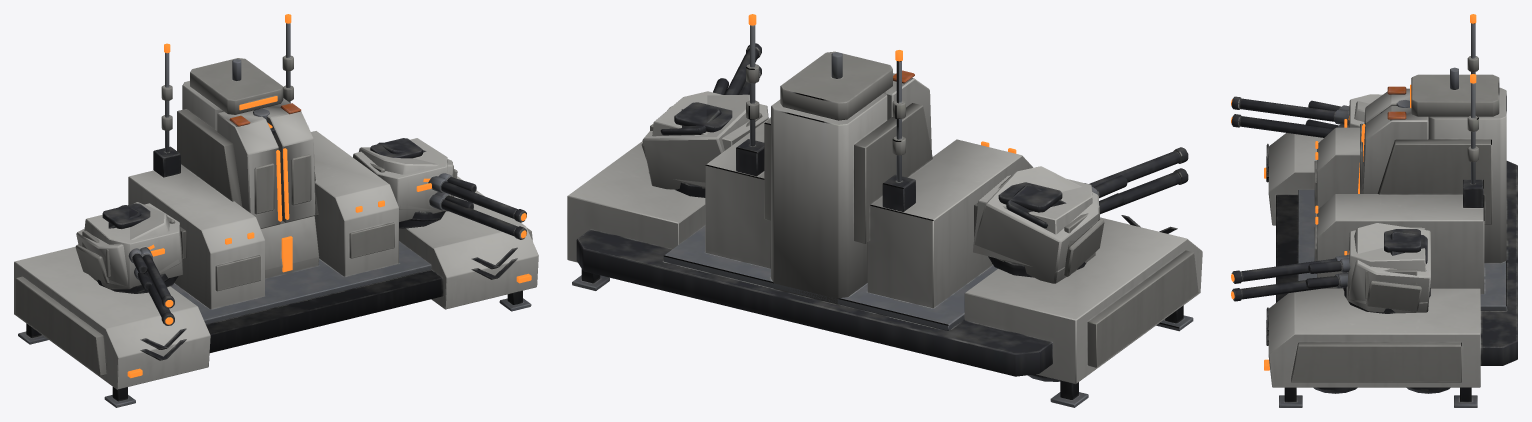
The model's file is warden-v5-remodel.glb.
3 renders of one model, left to right at view 1: azimuth 30°, elevation 25°; view 2: azimuth 150°, elevation 25°; view 3: azimuth 270°, elevation 25°, orthographic. The views are drawn at different scales.
Visible parts, largest first — view 1: warden_hull, warden_pod_right, warden_pod_left, warden_core_hatch_0, warden_core_hatch_1, warden_pod_left_wreck, warden_pod_right_wreck; view 2: warden_hull, warden_pod_left_wreck, warden_pod_left, warden_pod_right_wreck, warden_pod_right, warden_core_hatch_0; view 3: warden_hull, warden_pod_right_wreck, warden_pod_right, warden_core_hatch_1, warden_pod_left, warden_core_hatch_0, warden_pod_left_wreck.
Part boxes in pixels (bbox=[...]): warden_hull: bbox=[14, 14, 538, 407]; warden_pod_right: bbox=[353, 138, 526, 239]; warden_pod_left: bbox=[82, 203, 186, 325]; warden_core_hatch_0: bbox=[217, 110, 282, 228]; warden_core_hatch_1: bbox=[254, 98, 315, 222]; warden_pod_left_wreck: bbox=[75, 202, 180, 292]; warden_pod_right_wreck: bbox=[359, 142, 476, 221]; warden_hull: bbox=[567, 14, 1202, 407]; warden_pod_left_wreck: bbox=[973, 166, 1127, 283]; warden_pod_left: bbox=[973, 147, 1188, 277]; warden_pod_right_wreck: bbox=[641, 78, 762, 196]; warden_pod_right: bbox=[648, 43, 768, 197]; warden_core_hatch_0: bbox=[885, 70, 931, 152]; warden_hull: bbox=[1264, 14, 1517, 407]; warden_pod_right_wreck: bbox=[1305, 223, 1430, 313]; warden_pod_right: bbox=[1231, 227, 1430, 313]; warden_core_hatch_1: bbox=[1358, 106, 1428, 193]; warden_pod_left: bbox=[1231, 94, 1382, 137]; warden_core_hatch_0: bbox=[1358, 86, 1409, 191]; warden_pod_left_wreck: bbox=[1305, 100, 1369, 128].
Size of the model in its own units: 6.84 by 3.86 by 3.85.
3 materials, 1 textured.
